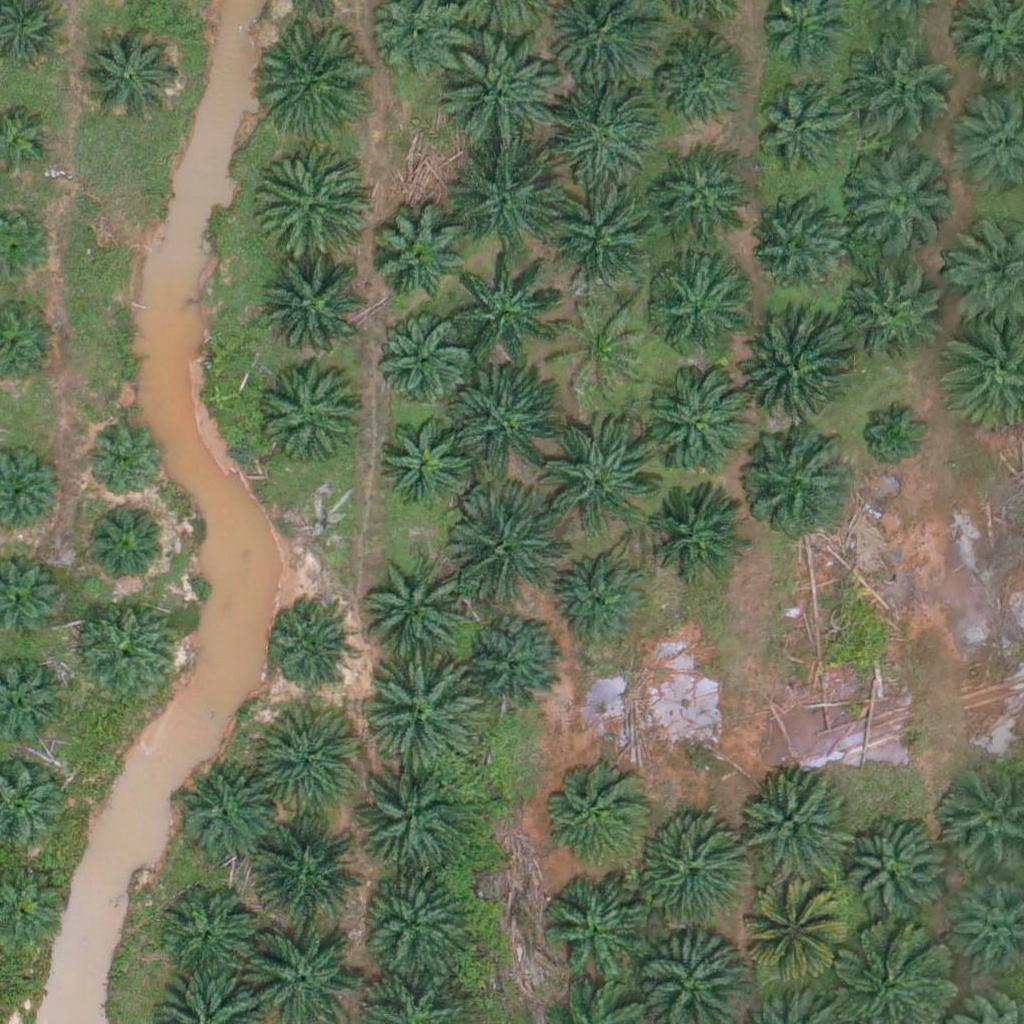Kelapa_Sawit: (362, 862, 475, 976), (450, 490, 563, 604), (353, 767, 466, 881), (251, 703, 364, 817), (257, 21, 370, 135), (539, 877, 652, 990), (833, 816, 946, 929), (838, 146, 951, 259), (737, 315, 850, 428), (451, 364, 564, 477), (441, 38, 554, 151), (253, 145, 366, 258), (645, 365, 757, 479), (546, 76, 658, 190), (547, 189, 659, 303), (540, 754, 652, 868), (250, 811, 362, 925), (260, 254, 372, 368), (736, 773, 848, 886), (626, 817, 738, 930), (845, 29, 957, 142), (739, 431, 851, 544), (543, 420, 655, 533), (448, 251, 560, 364), (452, 136, 564, 249), (364, 544, 476, 657), (368, 658, 480, 771), (157, 884, 257, 985), (847, 265, 947, 366), (744, 197, 844, 298), (553, 293, 653, 394), (460, 611, 560, 712), (370, 311, 470, 412), (374, 407, 474, 508), (263, 363, 363, 464), (78, 27, 178, 128), (76, 596, 176, 697), (176, 764, 276, 865), (741, 888, 841, 988), (646, 484, 746, 584), (650, 155, 750, 255), (643, 256, 743, 356), (549, 557, 649, 657), (367, 204, 467, 304), (755, 84, 843, 172), (652, 38, 740, 126), (264, 597, 351, 685), (83, 499, 170, 587), (86, 426, 161, 502), (857, 394, 932, 469)
